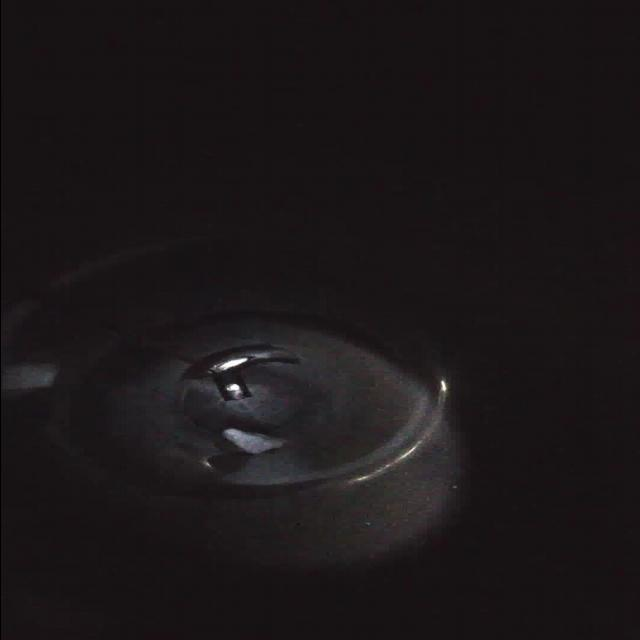impurity: (219, 426, 294, 458)
